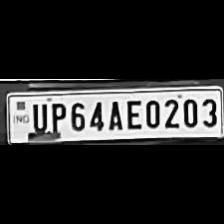0: (143, 96, 161, 128), (180, 95, 198, 127)
2: (162, 96, 178, 128)
3: (200, 95, 218, 127)
4: (88, 98, 104, 132)
6: (68, 100, 86, 132)
A: (105, 97, 123, 130)
E: (122, 96, 142, 130)
P: (47, 100, 65, 134)
U: (28, 99, 48, 135)
